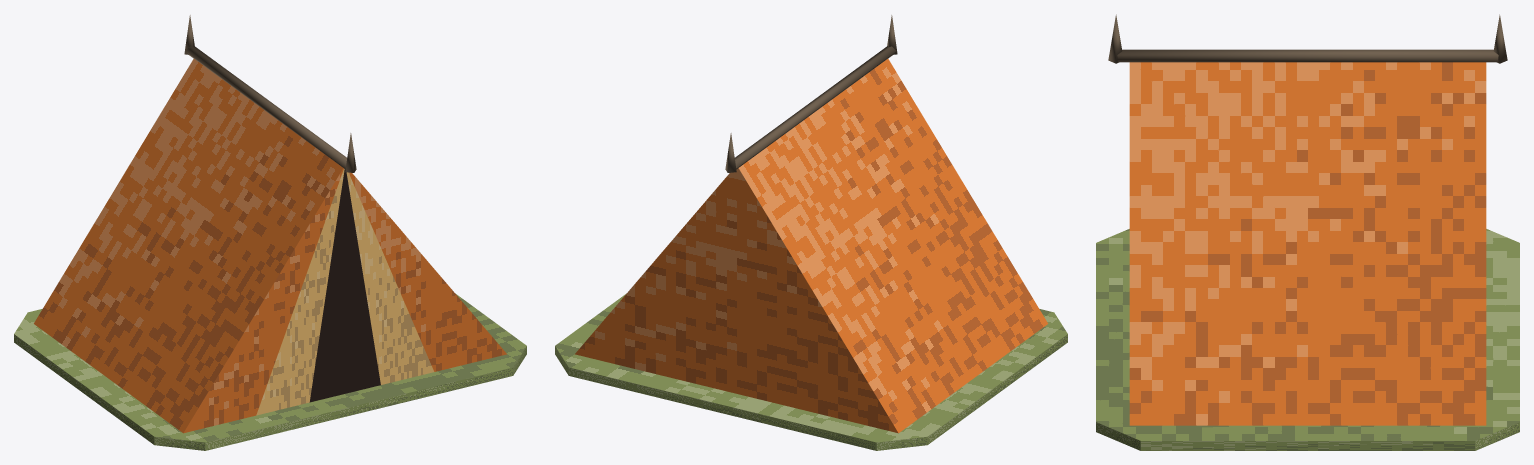
The model's file is life-tent.glb.
The picture shows the model from 3 angles, left to right: view 1: azimuth 30°, elevation 25°; view 2: azimuth 150°, elevation 25°; view 3: azimuth 270°, elevation 25°; orthographic projection. The views are drawn at different scales.
Parts seen in each view (by area): view 1: life.tent; view 2: life.tent; view 3: life.tent.
Part boxes in pixels (x1,y1,x2,y2): life.tent: (14, 15, 526, 450); life.tent: (555, 15, 1067, 450); life.tent: (1096, 14, 1519, 450).
Size of the model in its own units: 1.44 by 1.02 by 1.19.
5 materials, 4 textured.
